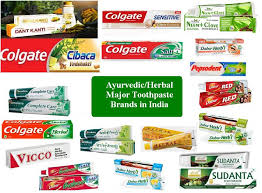colgate-medium: (1, 40, 101, 71)
colgate-small: (100, 40, 183, 58), (1, 119, 73, 139), (103, 10, 182, 25)
